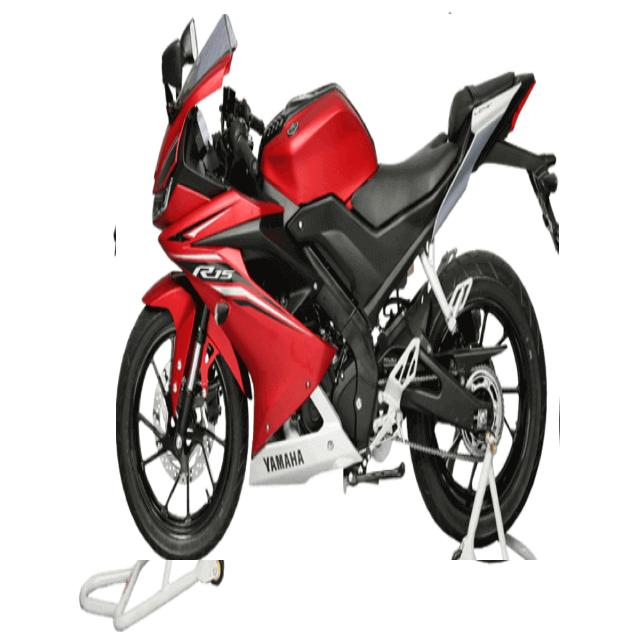motorcycle: (116, 14, 559, 560)
